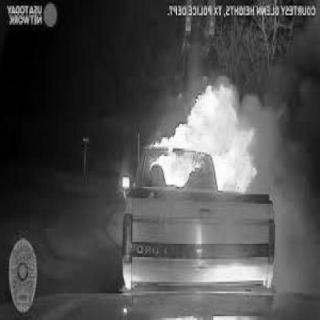Fire: (122, 74, 248, 202)
